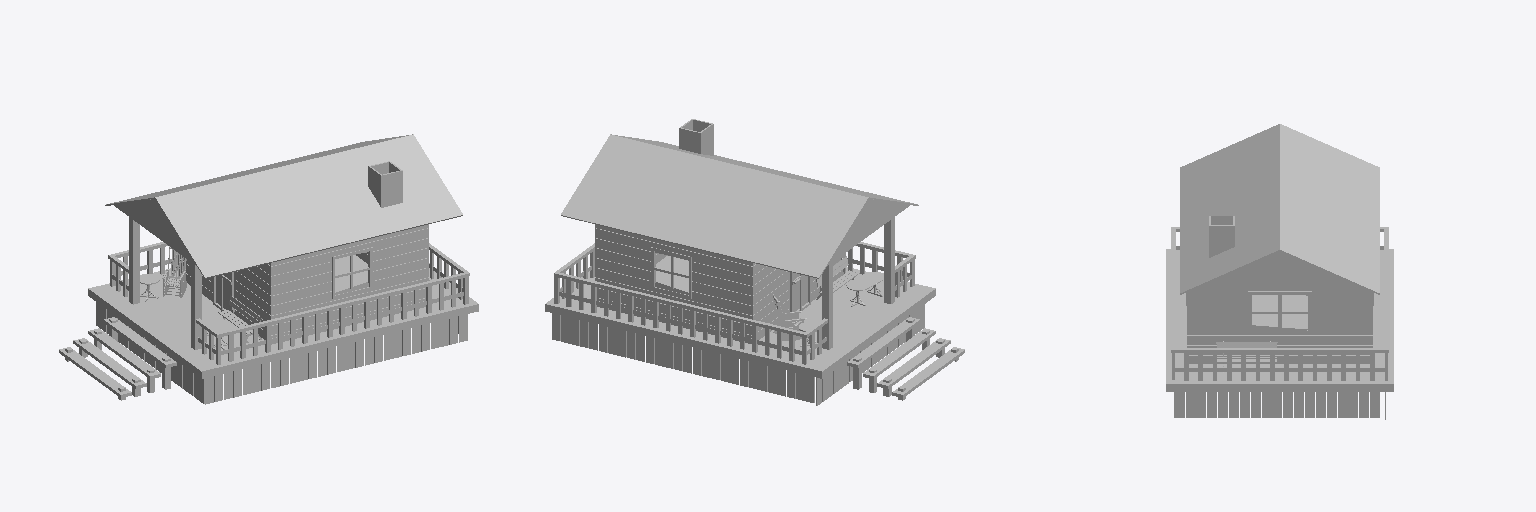
Rendered from cabin.obj.
3 renders of one model, left to right at view 1: azimuth 30°, elevation 25°; view 2: azimuth 150°, elevation 25°; view 3: azimuth 270°, elevation 25°, orthographic.
Visible parts, largest first — view 1: Kulube_1 cati, Kulube_1 oda, Kulube_1 balkon, Kulube_1 zemin, Kulube_1 korkuluk, Kulube_1 merdiven, Kulube_1 siperlik2, Kulube_1 baca, Kulube_1 pencere1, Kulube_1 kapi, Kulube_1 sandalye, Kulube_1 bank1; view 2: Kulube_1 cati, Kulube_1 oda, Kulube_1 balkon, Kulube_1 zemin, Kulube_1 korkuluk, Kulube_1 merdiven, Kulube_1 siperlik2, Kulube_1 baca, Kulube_1 pencere2, Kulube_1 kapi, Kulube_1 masa2, Kulube_1 sandalye; view 3: Kulube_1 cati, Kulube_1 oda, Kulube_1 balkon, Kulube_1 korkuluk, Kulube_1 zemin, Kulube_1 siperlik1, Kulube_1 pencere3, Kulube_1 baca, Kulube_1 bank2.
Boxes of the visible parts, x1=… form: Kulube_1 cati: x1=105, y1=134, x2=462, y2=278; Kulube_1 oda: x1=178, y1=224, x2=428, y2=344; Kulube_1 balkon: x1=88, y1=255, x2=478, y2=378; Kulube_1 zemin: x1=96, y1=302, x2=467, y2=404; Kulube_1 korkuluk: x1=108, y1=242, x2=469, y2=364; Kulube_1 merdiven: x1=59, y1=317, x2=176, y2=400; Kulube_1 siperlik2: x1=114, y1=199, x2=201, y2=349; Kulube_1 baca: x1=368, y1=161, x2=402, y2=207; Kulube_1 pencere1: x1=332, y1=247, x2=372, y2=298; Kulube_1 kapi: x1=213, y1=272, x2=233, y2=311; Kulube_1 sandalye: x1=162, y1=246, x2=186, y2=298; Kulube_1 bank1: x1=218, y1=295, x2=261, y2=342; Kulube_1 cati: x1=561, y1=134, x2=918, y2=278; Kulube_1 oda: x1=595, y1=224, x2=845, y2=343; Kulube_1 balkon: x1=545, y1=256, x2=935, y2=378; Kulube_1 zemin: x1=552, y1=304, x2=924, y2=405; Kulube_1 korkuluk: x1=554, y1=242, x2=915, y2=364; Kulube_1 merdiven: x1=847, y1=317, x2=964, y2=400; Kulube_1 siperlik2: x1=822, y1=199, x2=909, y2=349; Kulube_1 baca: x1=679, y1=119, x2=713, y2=155; Kulube_1 pencere2: x1=651, y1=247, x2=691, y2=298; Kulube_1 kapi: x1=790, y1=272, x2=810, y2=311; Kulube_1 masa2: x1=846, y1=272, x2=883, y2=306; Kulube_1 sandalye: x1=773, y1=294, x2=806, y2=340; Kulube_1 cati: x1=1180, y1=124, x2=1379, y2=294; Kulube_1 oda: x1=1187, y1=289, x2=1372, y2=363; Kulube_1 balkon: x1=1166, y1=249, x2=1393, y2=391; Kulube_1 korkuluk: x1=1171, y1=227, x2=1388, y2=380; Kulube_1 zemin: x1=1174, y1=392, x2=1385, y2=419; Kulube_1 siperlik1: x1=1195, y1=251, x2=1364, y2=288; Kulube_1 pencere3: x1=1248, y1=291, x2=1311, y2=333; Kulube_1 baca: x1=1209, y1=216, x2=1234, y2=257; Kulube_1 bank2: x1=1216, y1=341, x2=1277, y2=372.
Size of the model in its own units: 1234 by 598 by 730.